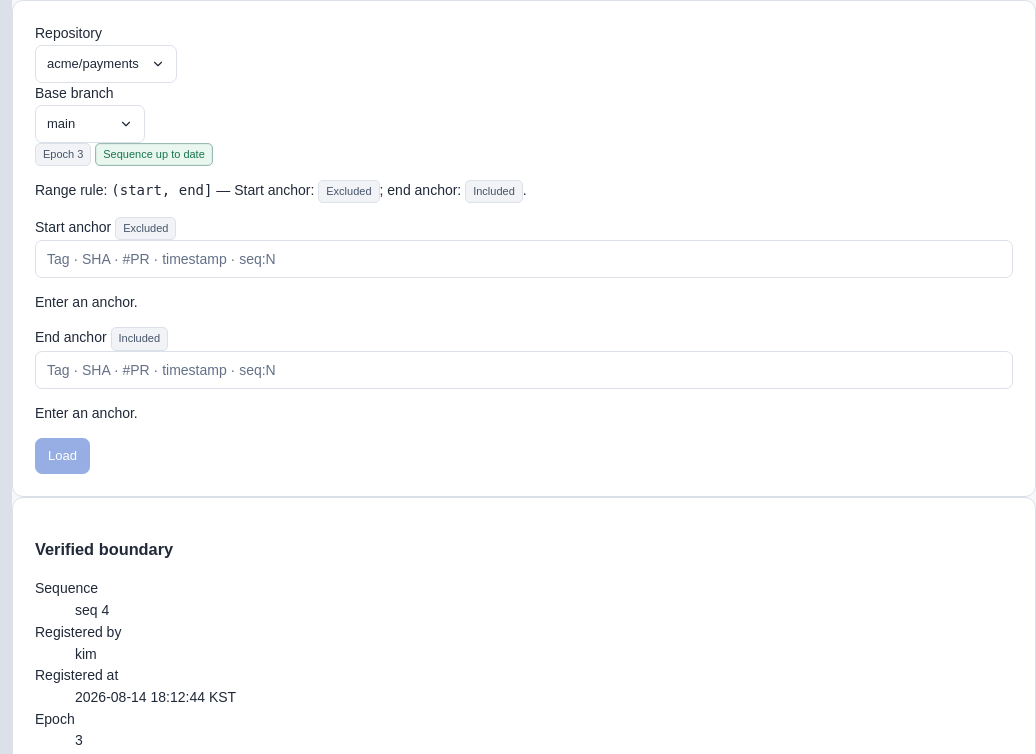
Test: 조회와 결과 (QA-W004-10·11) › **요약 넷이 보이고 되돌림 자리는 "준비 중"이다** (QA-W004-10 절반, DEV-150)
The width and height of the screenshot is (1036, 754).
Type "seq:2" into the field with test id "anchor-from-input" at (524, 259), box [47, 241, 1001, 277]
Then press Enter
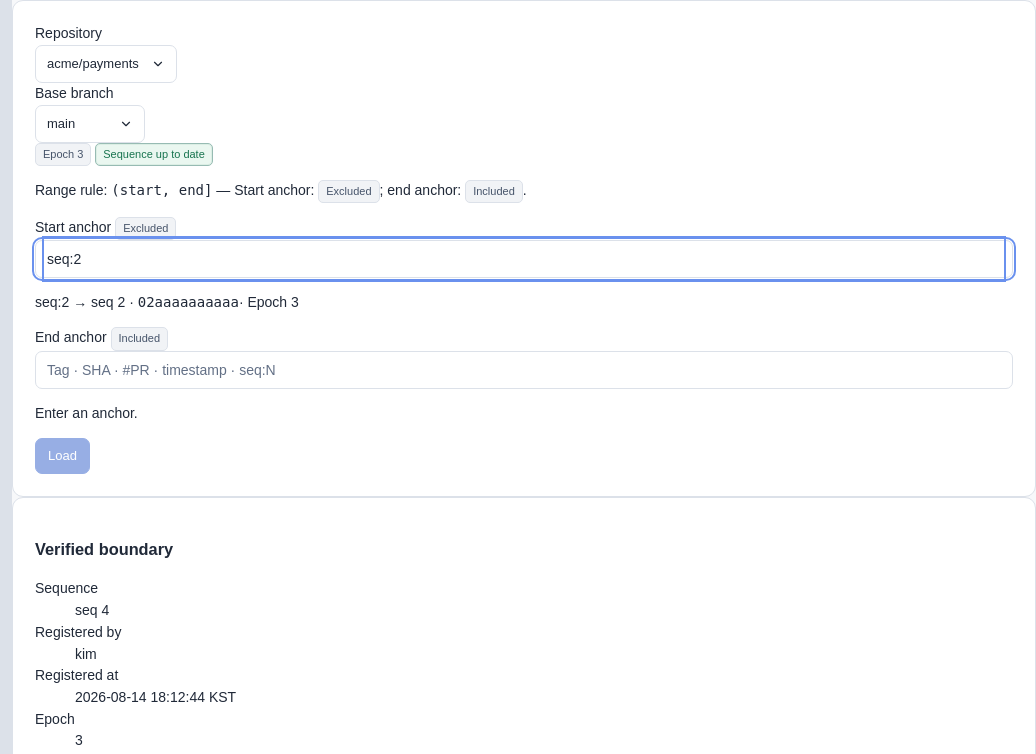
Type "seq:5" into the field with test id "anchor-to-input" at (524, 370), box [47, 352, 1001, 388]
Then press Enter
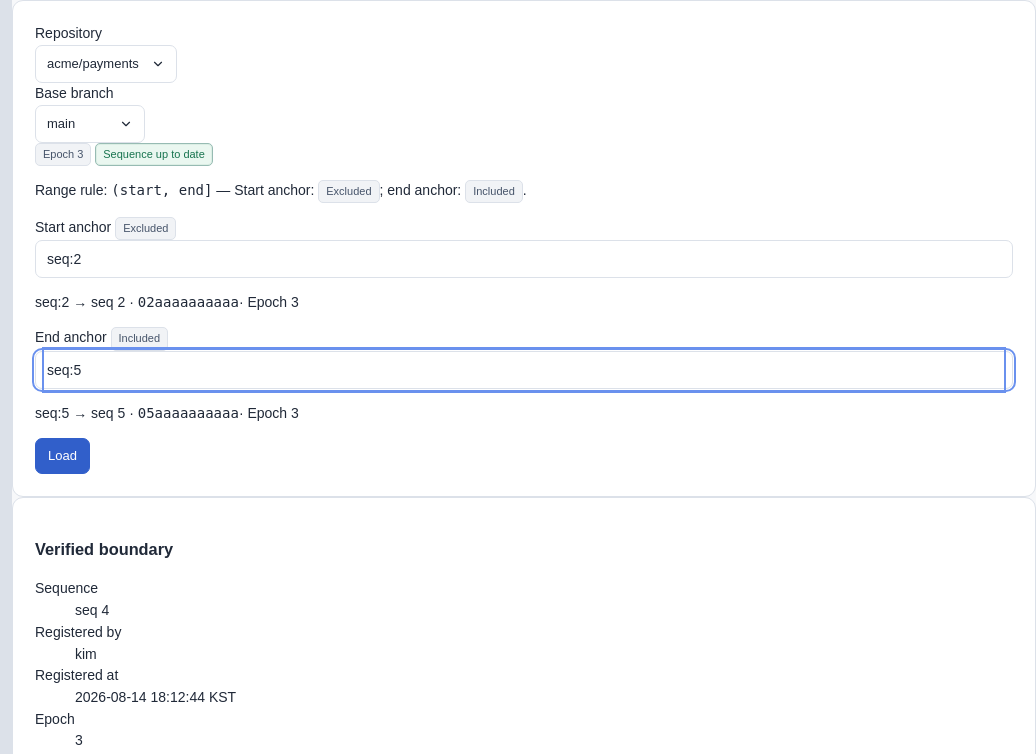
Click the button with test id "range-query" at (62, 456), box [35, 438, 90, 474]
(page scrolled)
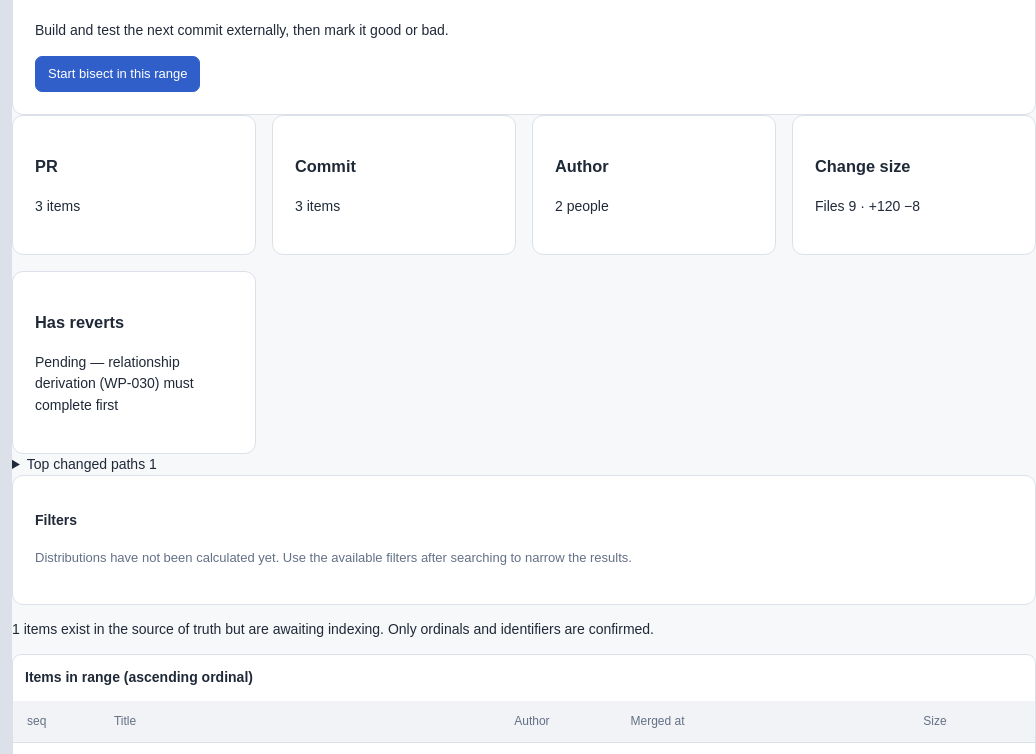
Check: the element with test id "summary-pr-count" shows "3", box [35, 198, 43, 214]
Check: the element with test id "summary-author-count" shows "2", box [555, 198, 563, 214]
Check: the text with test id "summary-reverts-pending" shows "Pending — relationship derivation", box [35, 354, 180, 391]
